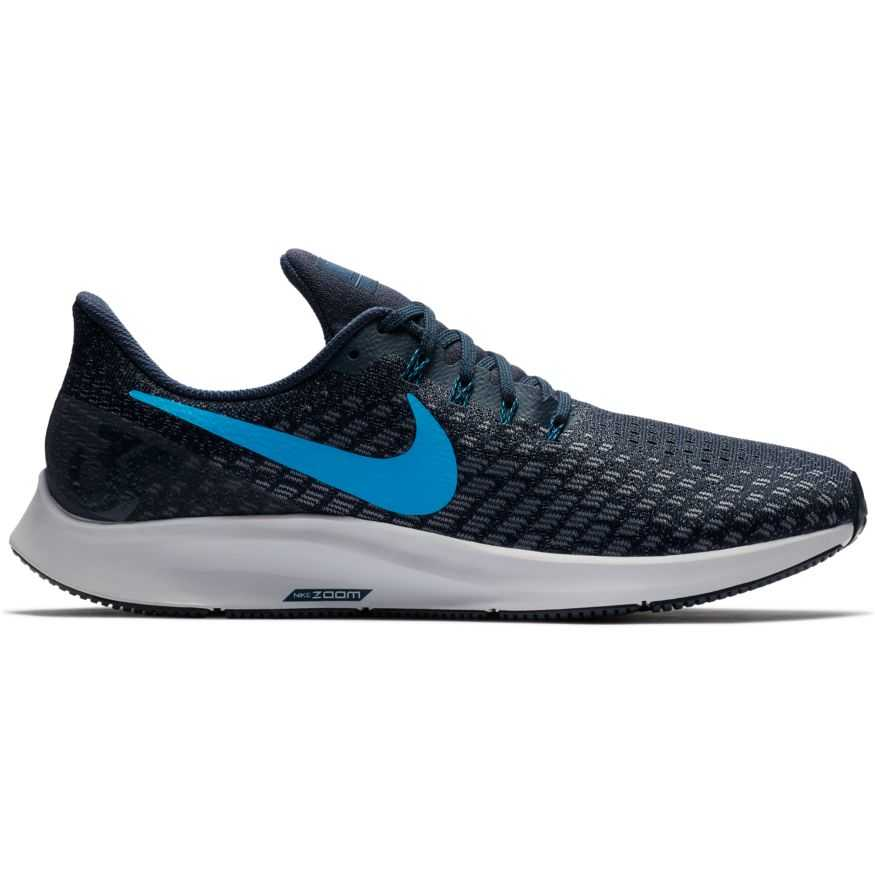nike: (119, 384, 460, 519)
